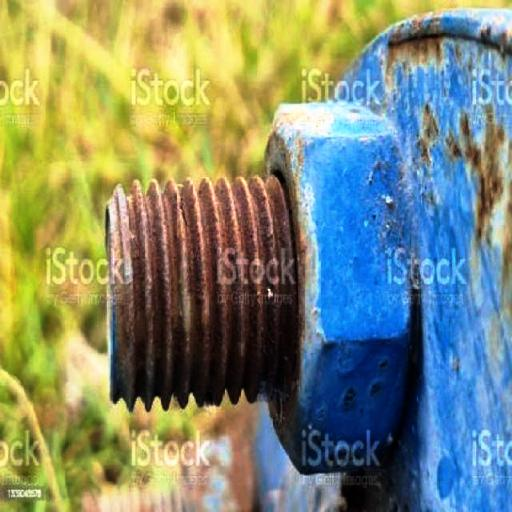corrosion: (106, 183, 302, 410)
